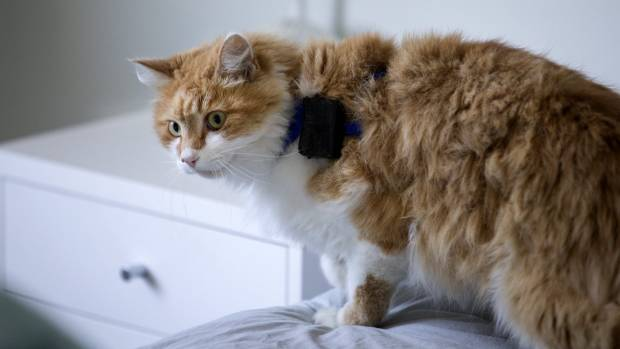cat: (125, 27, 620, 346)
